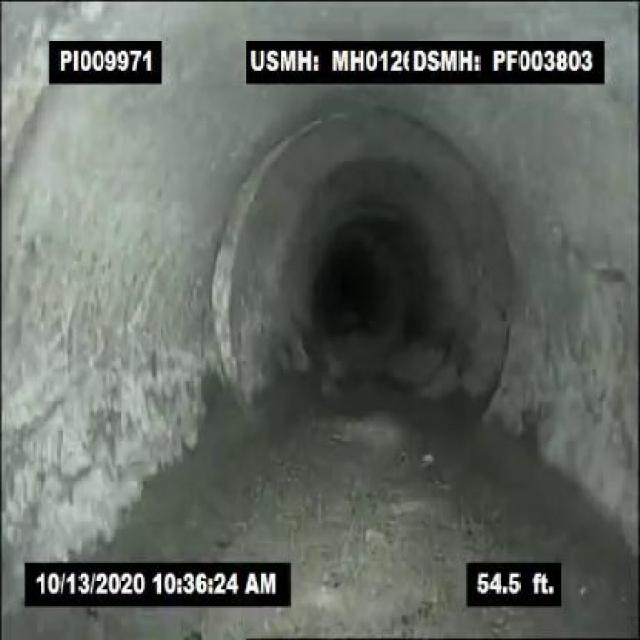Joint offset: (171, 119, 297, 412)
